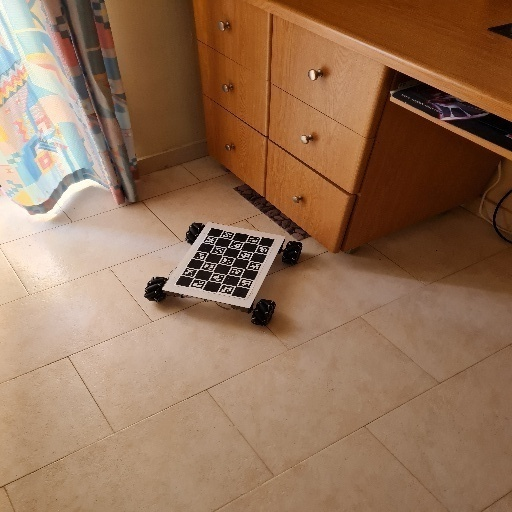Omniwheel: (144, 221, 304, 328)
